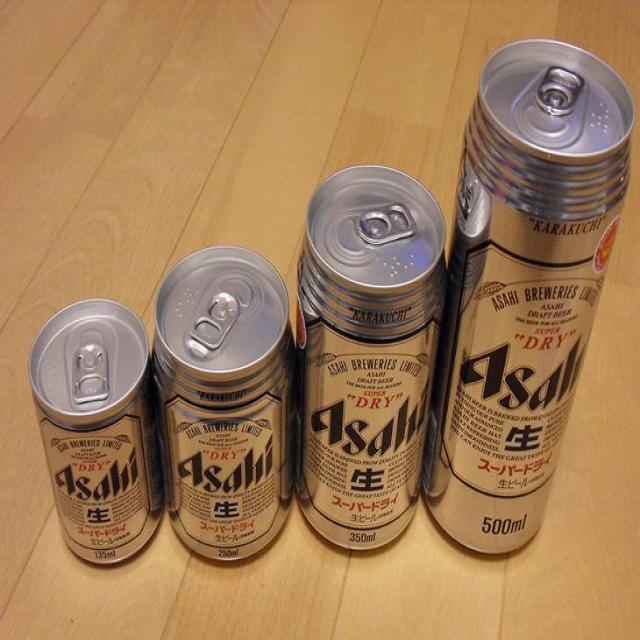beer-can: (435, 41, 640, 580), (296, 162, 450, 558), (155, 245, 296, 564), (30, 294, 156, 570)
